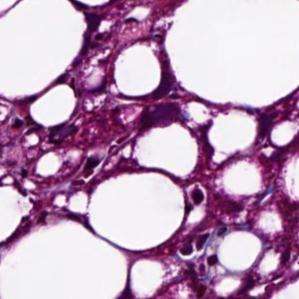inflammation: (73, 147, 114, 182), (174, 229, 215, 262), (183, 180, 212, 210)
